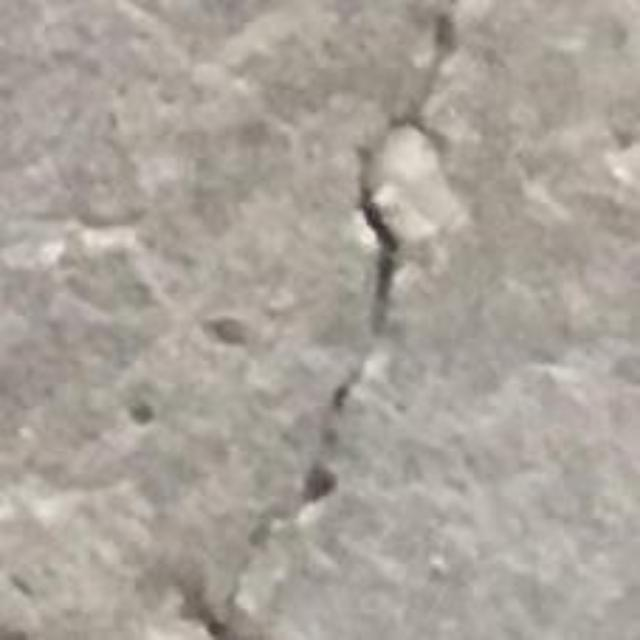crack: (215, 0, 456, 639)
